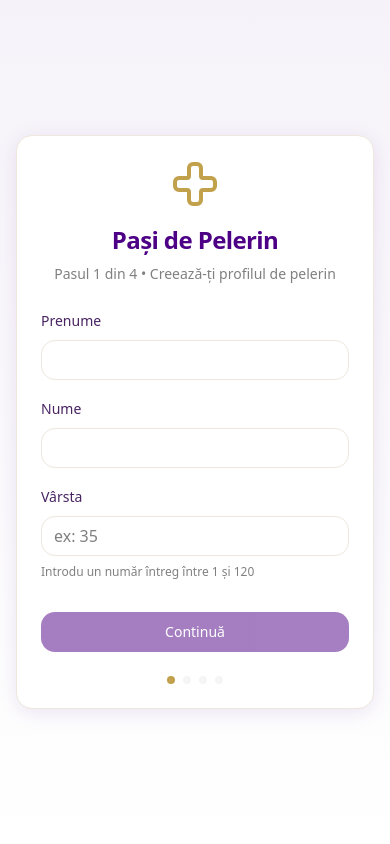
Test: Onboarding Flow - UI Integration › shows age validation error for invalid age
Type "0" into the field labelled "Vârsta" at (195, 536), box [41,516,349,556]
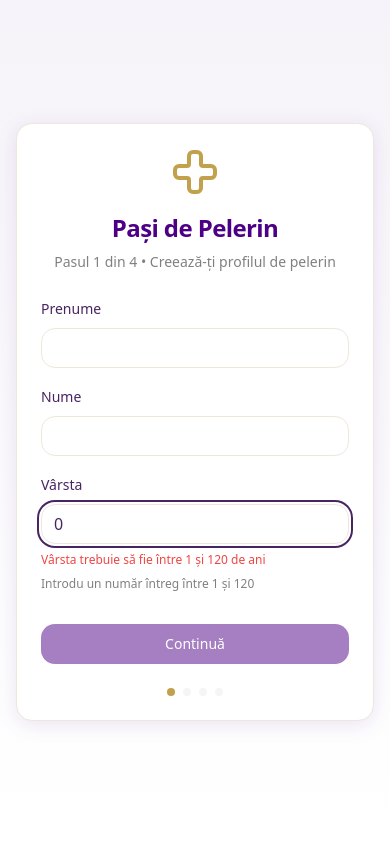
Expected: the text "Vârsta trebuie să fie între 1 și 120 de ani" is shown, [41,551,266,568]
